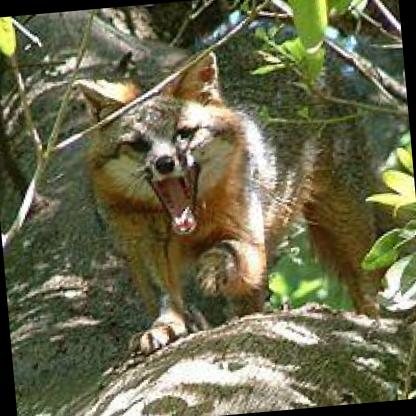dhole: (67, 30, 416, 361)
